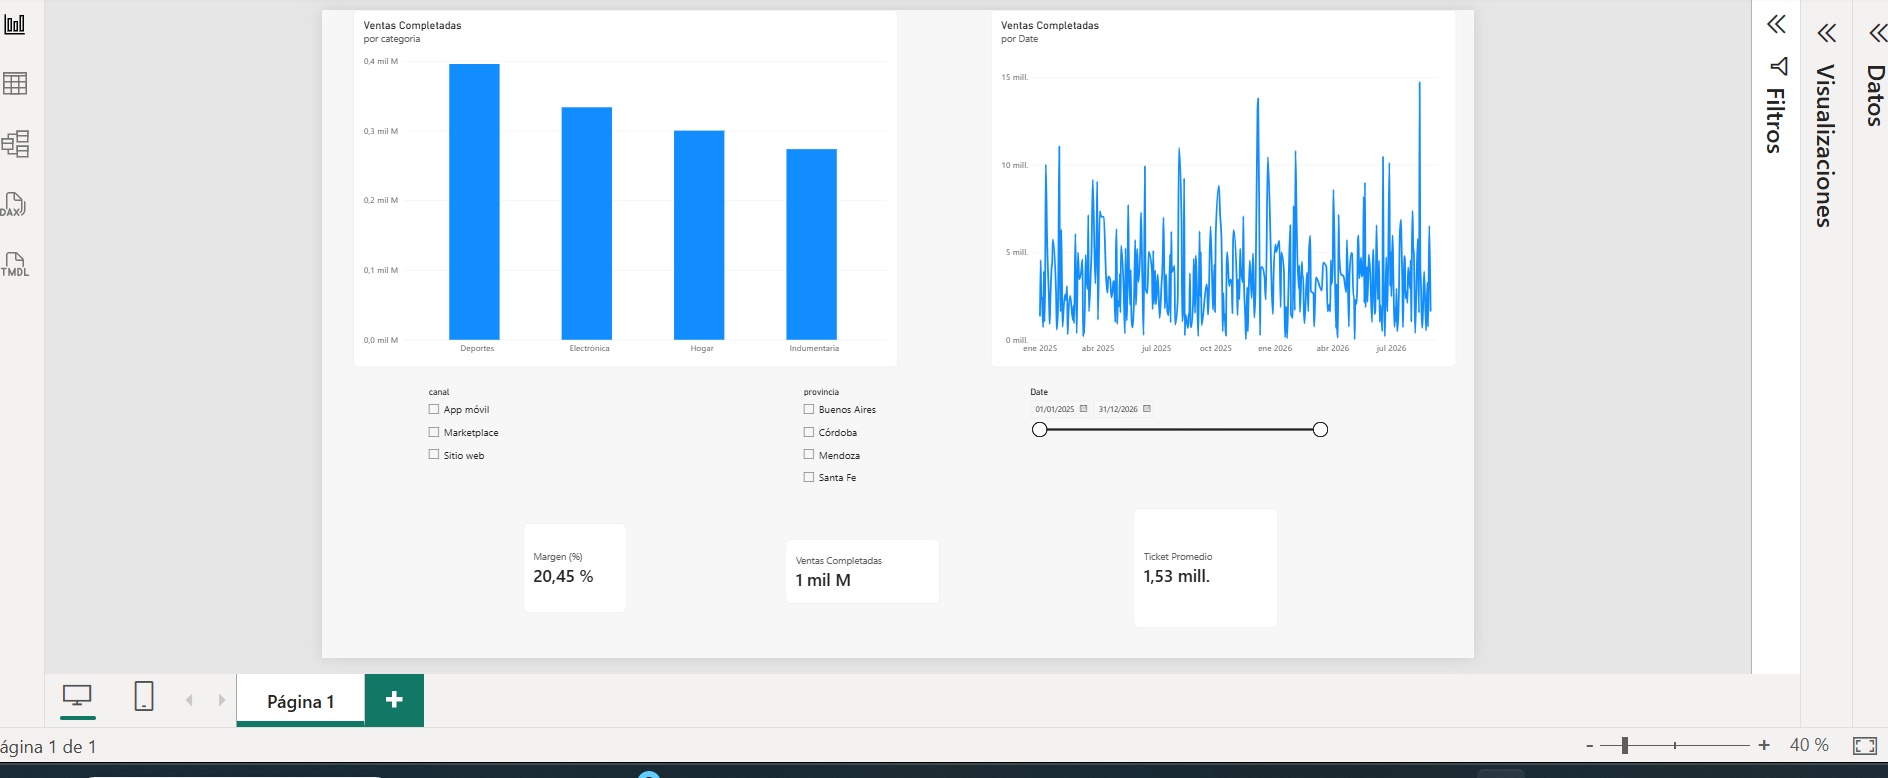

The page's visual inventory and layout, read from the dashboard file:
{"tool":"powerbi","page":{"name":"Página 1","canvas":[1920,1080],"ordinal":0},"visuals":[{"type":"cardVisual","fields":{"Data":["pedidos.Ventas Completadas"]},"box":[772.5,882.5,257.5,107.5],"z":1000},{"type":"cardVisual","fields":{"Data":["pedidos.Margen (%)"]},"box":[335,855,172.5,150],"z":2000},{"type":"clusteredColumnChart","fields":{"Category":["productos.categoria"],"Y":["pedidos.Ventas Completadas"]},"box":[52.5,0,907.5,595],"z":3000},{"type":"lineChart","fields":{"Category":["Calendario.Date"],"Y":["pedidos.Ventas Completadas"]},"box":[1115,0,775,595],"z":4000},{"type":"slicer","fields":{"Values":["Calendario.Date"]},"box":[1172.5,627.5,507.5,172.5],"z":5000},{"type":"slicer","fields":{"Values":["clientes.provincia"]},"box":[795,627.5,280,210],"z":5001},{"type":"slicer","fields":{"Values":["pedidos.canal"]},"box":[170,627.5,445,200],"z":5002},{"type":"cardVisual","fields":{"Data":["pedidos.Ticket Promedio"]},"box":[1352.5,830,240,200],"z":5003}]}

Visuals, with their boxes on the page's 1920x1080 design canvas (x1, y1, x2, y2). These are canvas units, not pixel positions in the 1888x778 screenshot, which may show the page scaled, cropped or inside an application window:
cardVisual - pedidos.Ventas Completadas: [x1=772, y1=882, x2=1030, y2=990]
cardVisual - pedidos.Margen (%): [x1=335, y1=855, x2=508, y2=1005]
clusteredColumnChart - productos.categoria x pedidos.Ventas Completadas: [x1=52, y1=0, x2=960, y2=595]
lineChart - Calendario.Date x pedidos.Ventas Completadas: [x1=1115, y1=0, x2=1890, y2=595]
slicer - Calendario.Date: [x1=1172, y1=628, x2=1680, y2=800]
slicer - clientes.provincia: [x1=795, y1=628, x2=1075, y2=838]
slicer - pedidos.canal: [x1=170, y1=628, x2=615, y2=828]
cardVisual - pedidos.Ticket Promedio: [x1=1352, y1=830, x2=1592, y2=1030]
